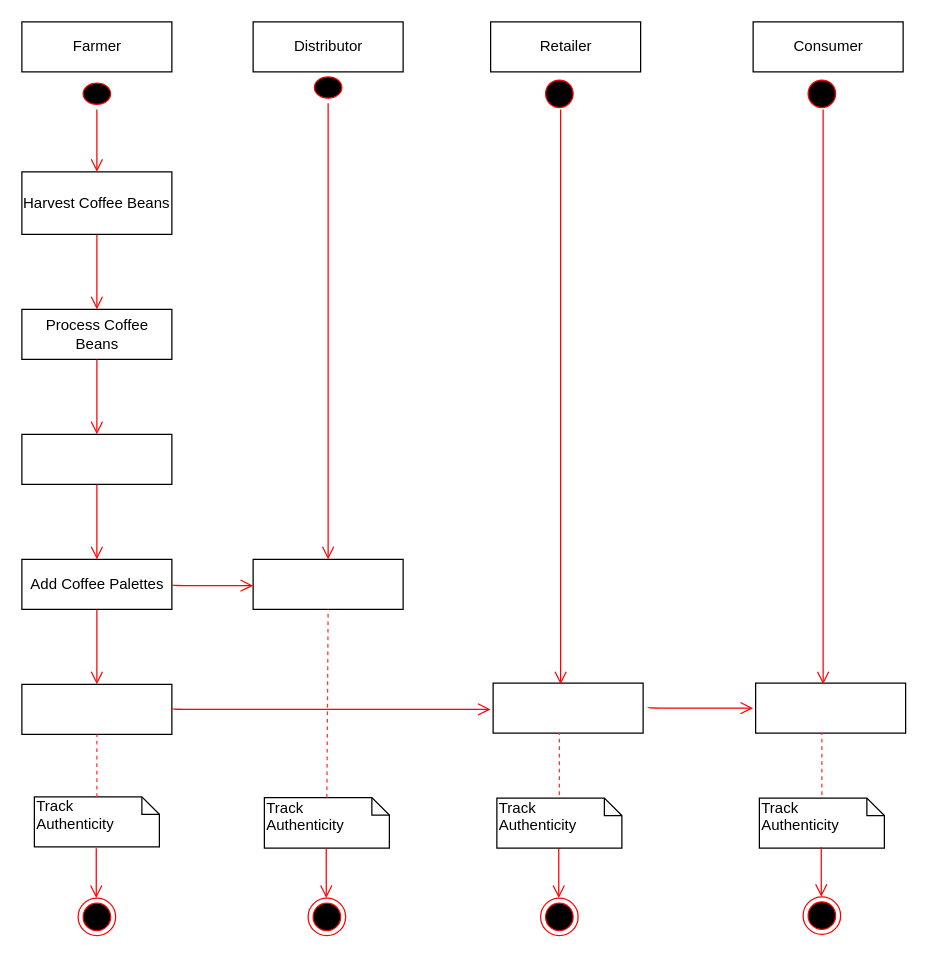
The diagram is 928 pixels wide and 966 high, and some of its shapes have lost their labels. The centre of each missing label's shape, as x and y in pixels:
"Buy Coffee Bags" belongs at pixel 830 707.
"Buy Coffee Paletes" belongs at pixel 327 583.
"Pack Coffee Bags" belongs at pixel 96 458.
"Receive Coffee Palettes" belongs at pixel 567 707.
"Ship Coffee Palettes" belongs at pixel 96 708.
